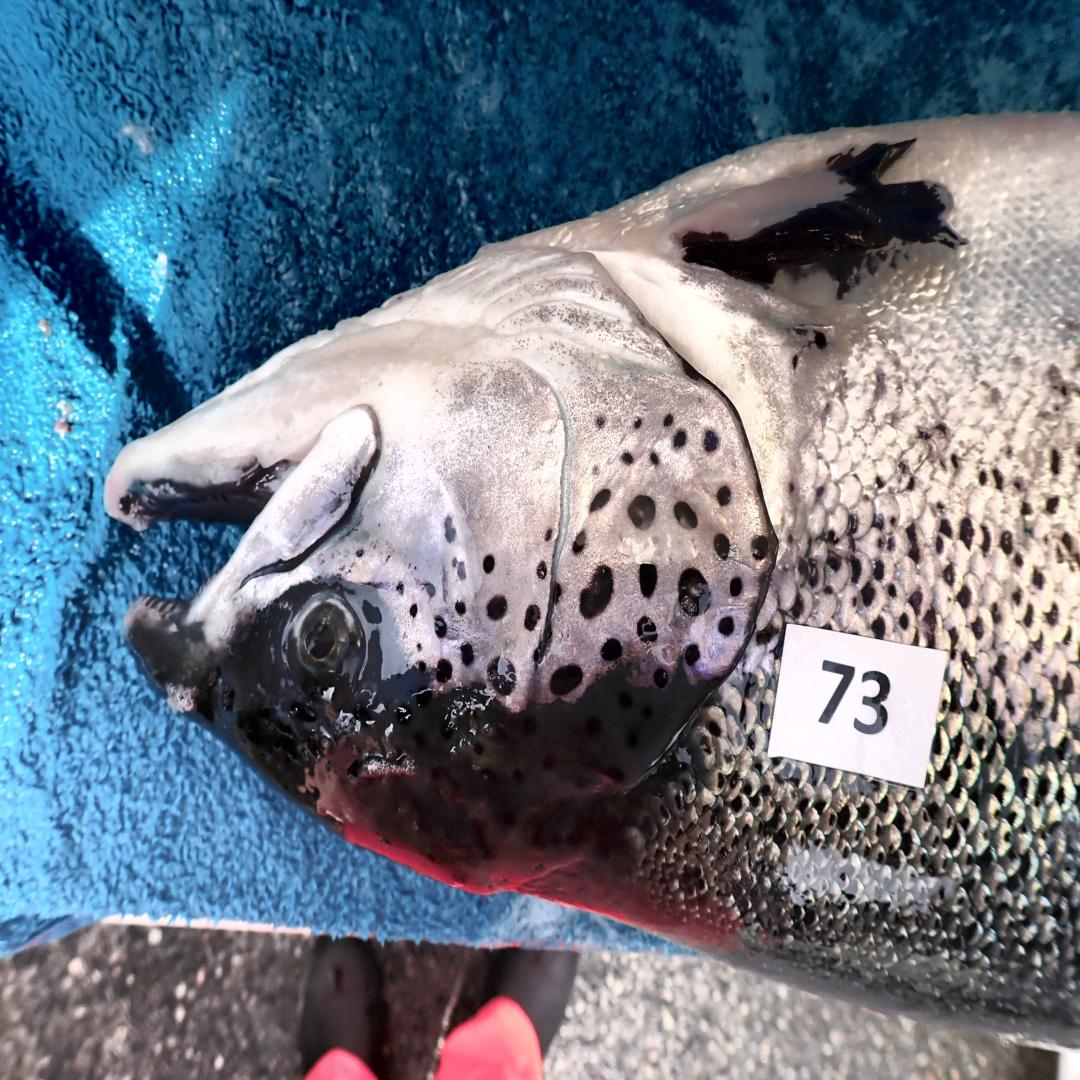spot: (580, 564, 614, 619), (678, 567, 711, 617), (487, 655, 517, 696), (551, 663, 582, 698), (628, 493, 657, 530), (673, 501, 698, 529), (639, 562, 658, 596), (637, 616, 658, 642), (601, 638, 622, 662), (591, 488, 612, 512), (487, 596, 506, 622), (713, 534, 730, 560), (751, 534, 768, 560), (524, 605, 540, 630), (702, 430, 719, 453), (437, 658, 452, 683), (653, 667, 669, 689), (685, 644, 700, 667), (460, 644, 475, 667), (719, 616, 735, 637), (572, 532, 586, 554), (673, 430, 688, 450), (444, 518, 456, 543), (729, 576, 743, 596), (435, 616, 447, 638), (717, 486, 730, 506), (483, 554, 496, 574), (536, 560, 547, 579), (555, 582, 562, 605), (456, 601, 466, 616), (458, 561, 466, 579), (425, 585, 436, 598), (622, 452, 633, 464), (664, 414, 674, 427), (596, 416, 606, 429), (409, 603, 417, 619), (650, 452, 659, 464), (545, 529, 552, 542), (591, 465, 600, 475), (355, 549, 364, 558), (397, 582, 404, 593), (634, 419, 641, 429), (417, 643, 423, 652), (452, 557, 457, 567)
